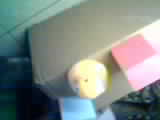duck: (58, 51, 113, 101)
